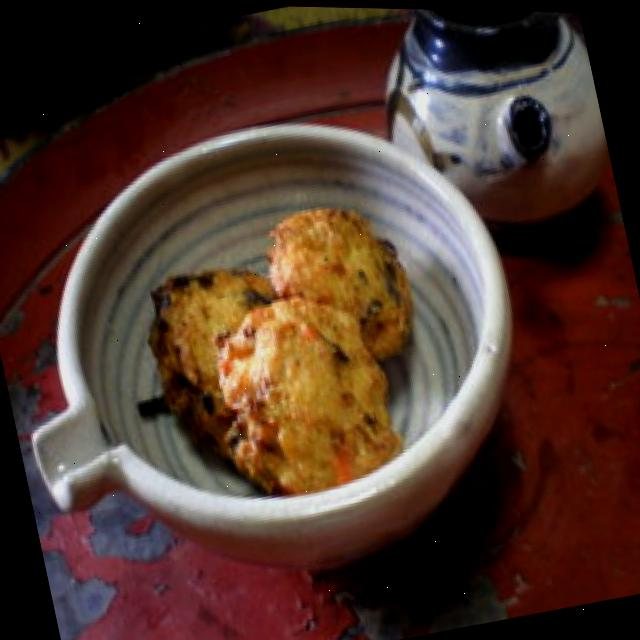熟制海鲜: (96, 156, 460, 532)
